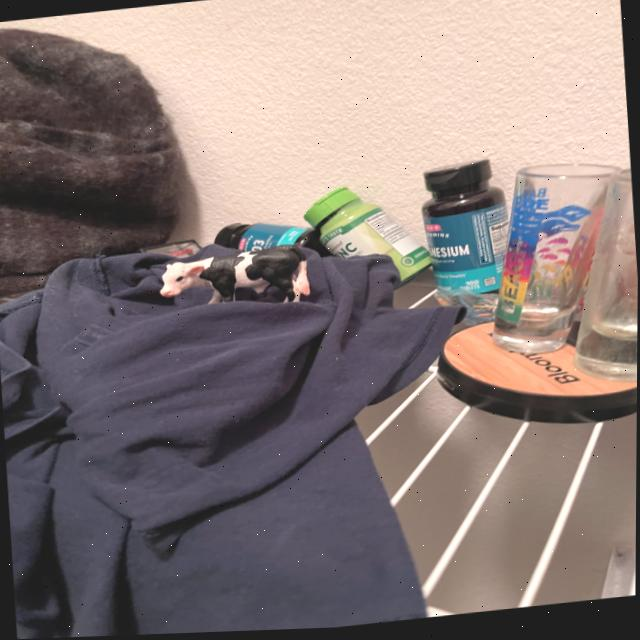cow: (159, 247, 310, 308)
